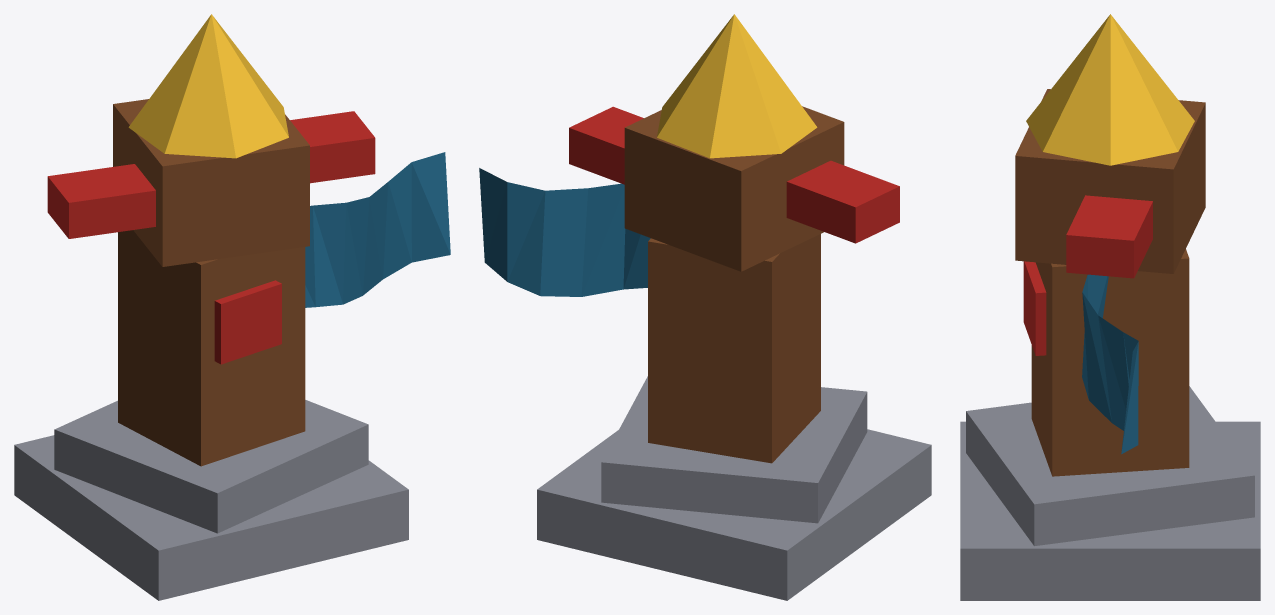
The model's file is totem.obj.
3 renders of one model, left to right at view 1: azimuth 30°, elevation 25°; view 2: azimuth 150°, elevation 25°; view 3: azimuth 270°, elevation 25°, orthographic. The views are drawn at different scales.
Size of the model in its own units: 4.14 by 5 by 2.6.
